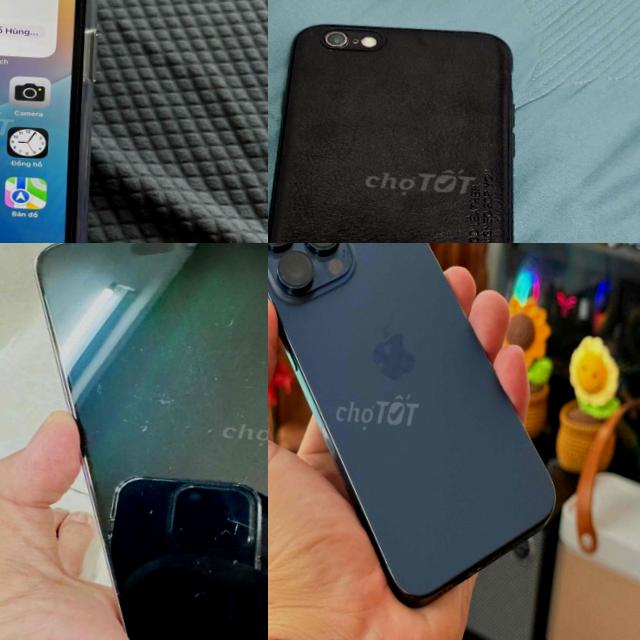scratch: (207, 508, 268, 559), (134, 386, 191, 426), (190, 301, 250, 334), (92, 362, 122, 401), (182, 586, 210, 610), (136, 506, 158, 529)
